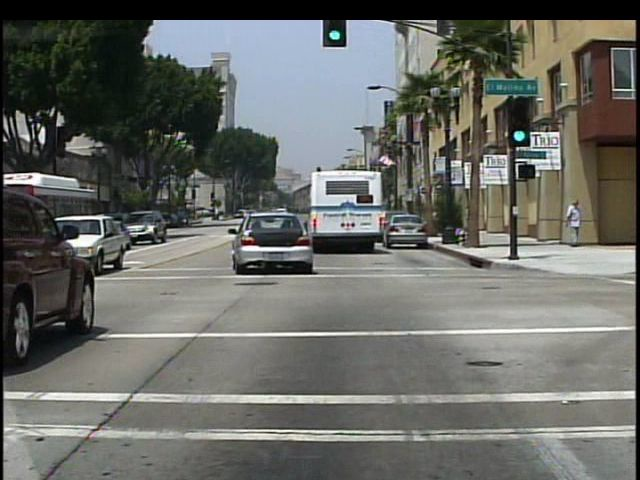person: (565, 200, 584, 249)
